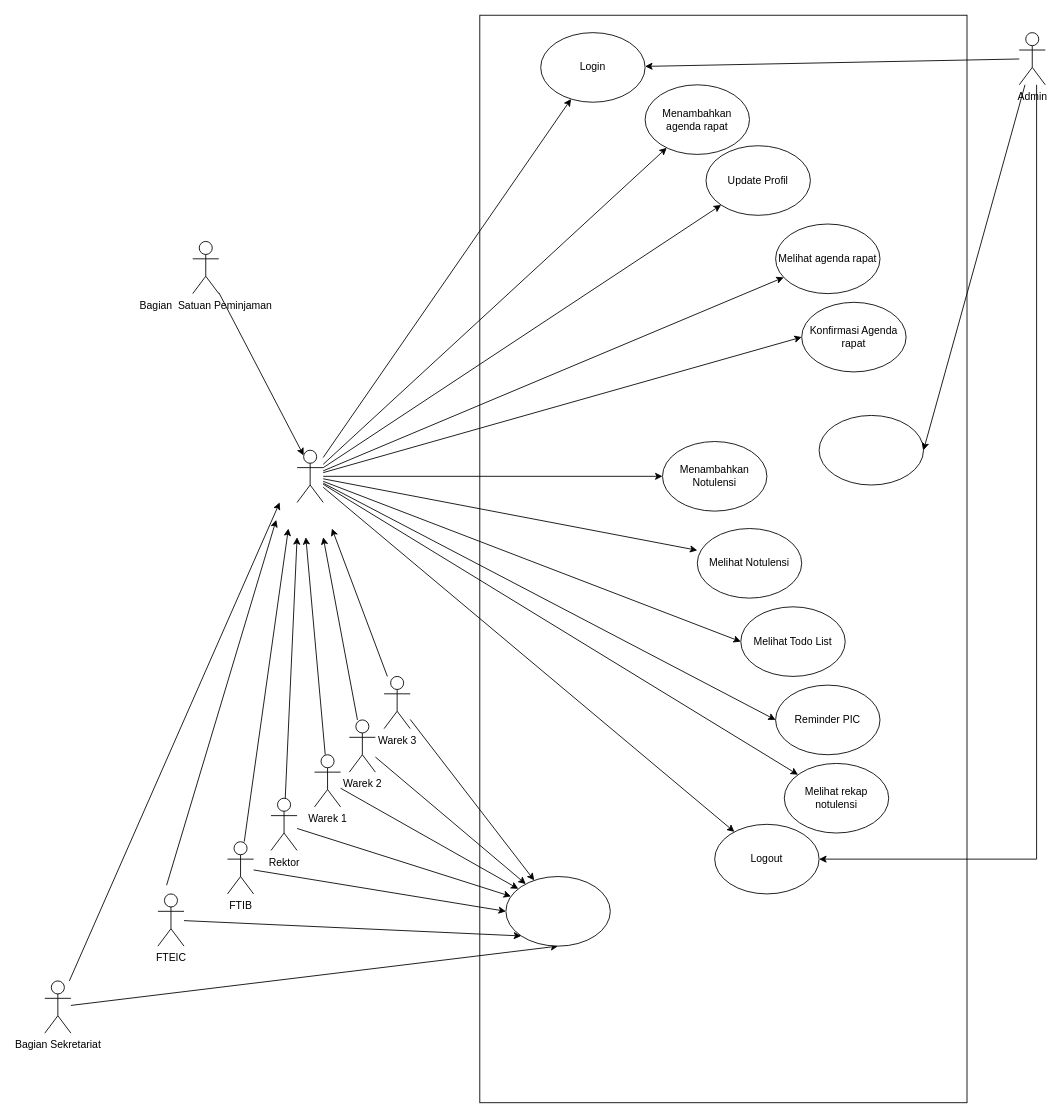
Image size: 1062x1118. Some labels were removed from this diagram. Each missing label, with the box of its shape:
Melihat daftar user: (818, 415, 924, 485)
Menambah Todo List: (505, 876, 610, 946)
Users: (296, 449, 323, 502)
